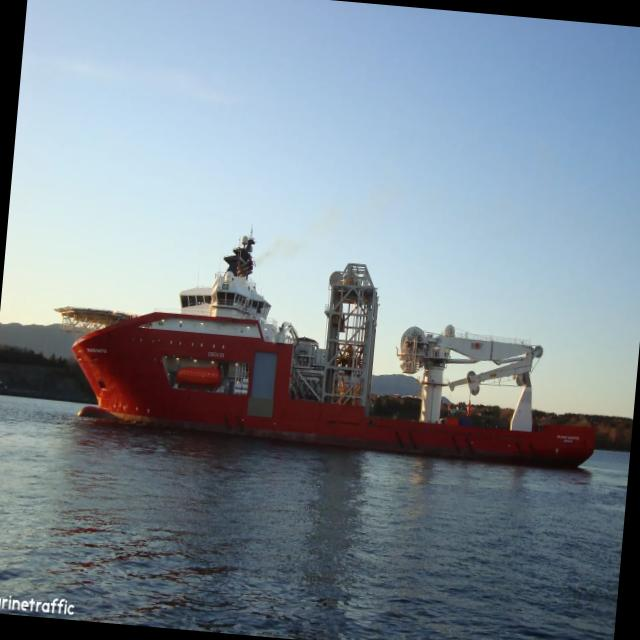Offshore: (61, 233, 594, 467)
